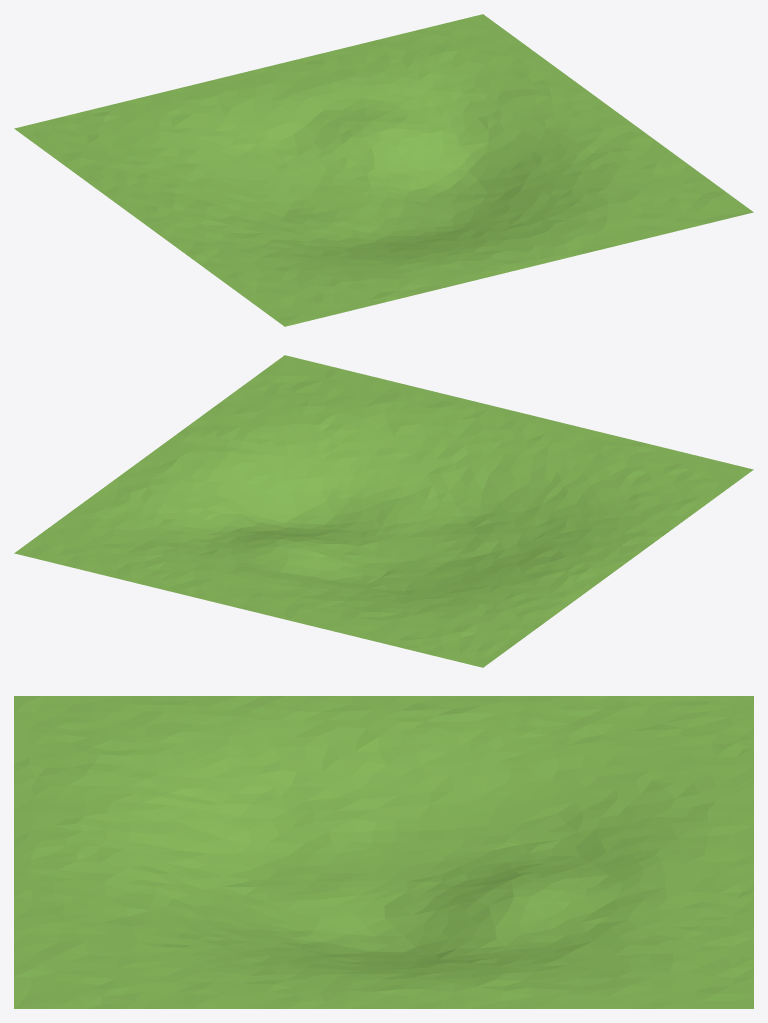
The model's file is MT_Terrain_L_b_05.fbx.
The picture shows the model from 3 angles, top to bottom: view 1: azimuth 30°, elevation 25°; view 2: azimuth 150°, elevation 25°; view 3: azimuth 270°, elevation 25°; orthographic projection. The views are drawn at different scales.
Parts seen in each view (by area): view 1: MT_Terrain_L_b_05; view 2: MT_Terrain_L_b_05; view 3: MT_Terrain_L_b_05.
Part boxes in pixels (left/top/right/bottom): MT_Terrain_L_b_05: left=14, top=14, right=753, bottom=326; MT_Terrain_L_b_05: left=14, top=355, right=753, bottom=667; MT_Terrain_L_b_05: left=14, top=696, right=753, bottom=1008.
Bounding box in the file's own units: 10000 × 636 × 10000.
